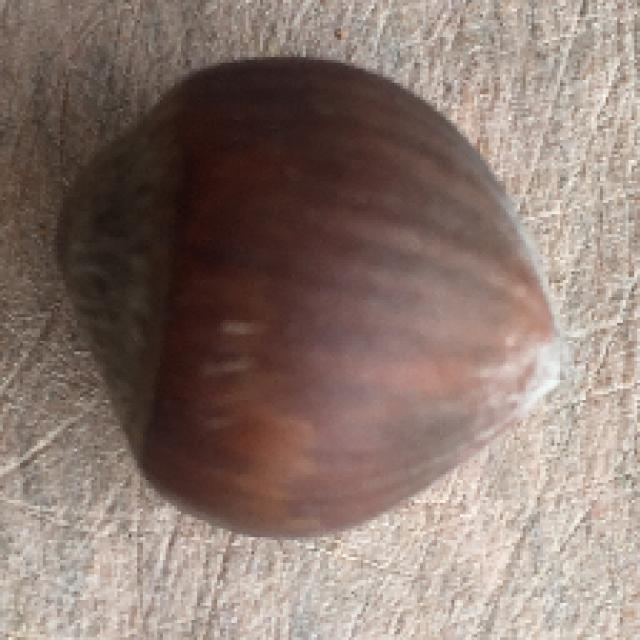DamagedHazelnut: (56, 71, 570, 539)
